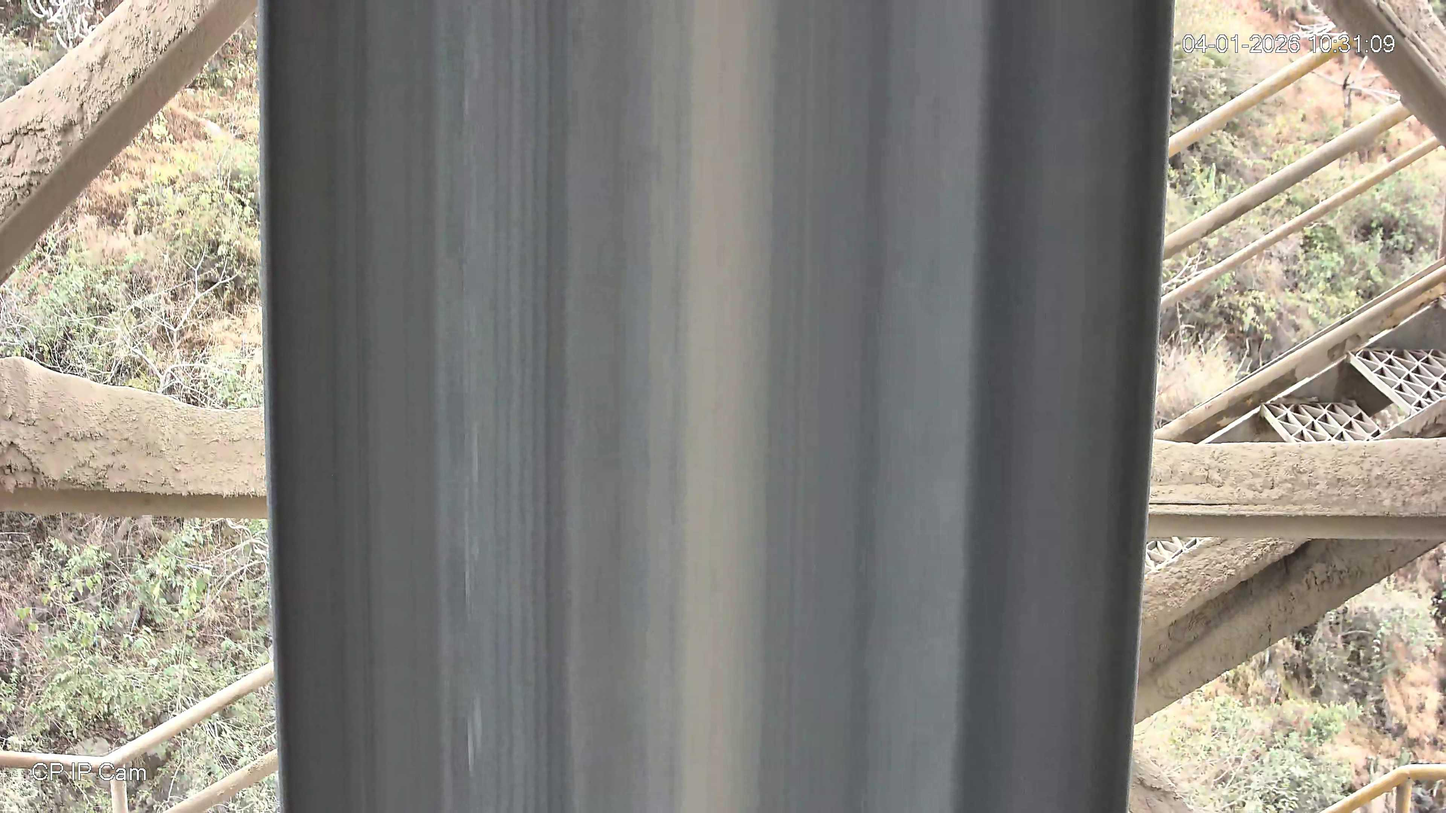belt_roi: (255, 0, 1176, 813)
